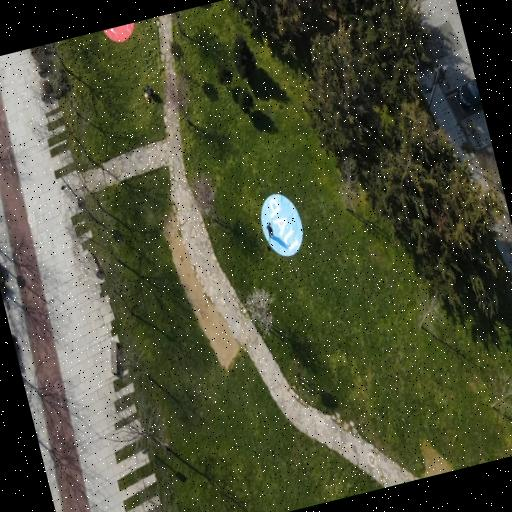UAI: (104, 22, 135, 42)
UAP: (261, 194, 303, 256)
person: (266, 223, 272, 238)
